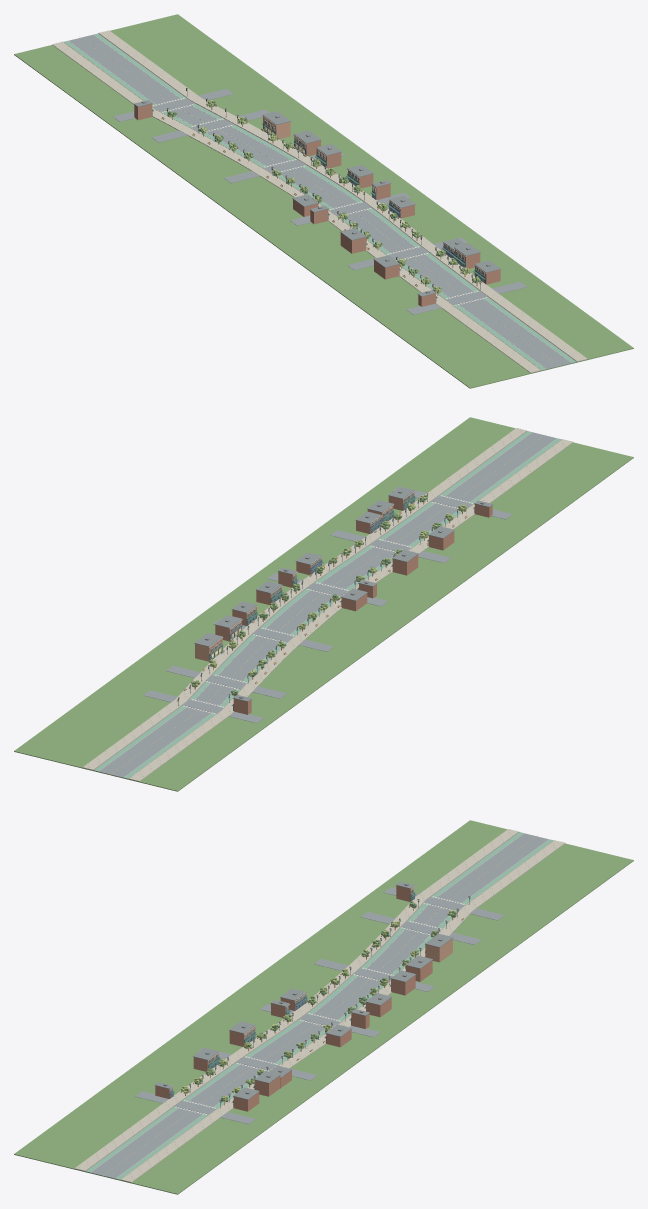
File: neighborhood.glb
3 renders of one model, top to bottom at view 1: azimuth 30°, elevation 25°; view 2: azimuth 150°, elevation 25°; view 3: azimuth 330°, elevation 25°, orthographic.
Visible parts, largest first — view 1: world_green.001, world_road.001, world_pavement.001, world_bikeLane.001, world_brick.001, world_roof.001, world_stone.001, world_white.001, world_leaf.001, world_leafLight.001, world_leafDark.001; view 2: world_green.001, world_road.001, world_pavement.001, world_bikeLane.001, world_brick.001, world_roof.001, world_stone.001, world_white.001, world_leafLight.001, world_leaf.001, world_leafDark.001; view 3: world_green.001, world_road.001, world_pavement.001, world_bikeLane.001, world_brick.001, world_roof.001, world_stone.001, world_white.001, world_leaf.001, world_leafLight.001, world_leafDark.001.
Boxes of the visible parts, <box> form: world_green.001: <box>14,14,633,388</box>; world_road.001: <box>69,33,576,370</box>; world_pavement.001: <box>52,30,587,372</box>; world_bikeLane.001: <box>64,33,575,370</box>; world_brick.001: <box>134,104,500,306</box>; world_roof.001: <box>134,100,500,296</box>; world_stone.001: <box>62,33,576,369</box>; world_white.001: <box>70,35,570,368</box>; world_leaf.001: <box>168,101,480,292</box>; world_leafLight.001: <box>169,100,478,293</box>; world_leafDark.001: <box>168,100,478,284</box>; world_green.001: <box>14,417,633,791</box>; world_road.001: <box>93,431,556,778</box>; world_pavement.001: <box>82,428,573,781</box>; world_bikeLane.001: <box>94,431,561,778</box>; world_brick.001: <box>209,492,492,714</box>; world_roof.001: <box>194,486,493,701</box>; world_stone.001: <box>93,430,562,778</box>; world_white.001: <box>100,433,554,776</box>; world_leafLight.001: <box>191,495,465,686</box>; world_leaf.001: <box>191,495,466,694</box>; world_leafDark.001: <box>191,498,450,695</box>; world_green.001: <box>14,820,633,1194</box>; world_road.001: <box>85,832,548,1179</box>; world_pavement.001: <box>74,829,565,1182</box>; world_bikeLane.001: <box>86,832,553,1179</box>; world_brick.001: <box>155,885,432,1111</box>; world_roof.001: <box>154,882,453,1099</box>; world_stone.001: <box>85,831,554,1179</box>; world_white.001: <box>91,833,548,1177</box>; world_leaf.001: <box>181,902,456,1101</box>; world_leafLight.001: <box>182,910,456,1101</box>; world_leafDark.001: <box>195,903,456,1101</box>.
Size of the model in its own units: 92 by 9.3 by 446.
